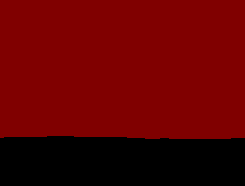Sky: (1, 1, 244, 138)
